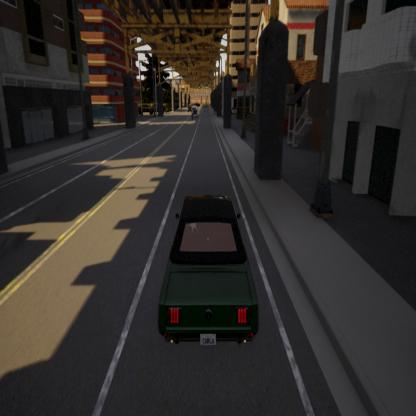Cars: (150, 179, 262, 362), (190, 102, 200, 120), (186, 101, 193, 115)
